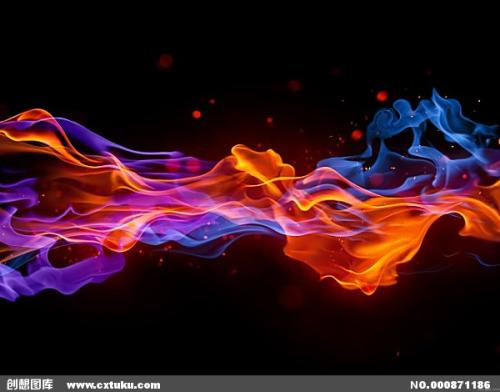fire: (296, 223, 422, 295), (229, 141, 294, 195)
